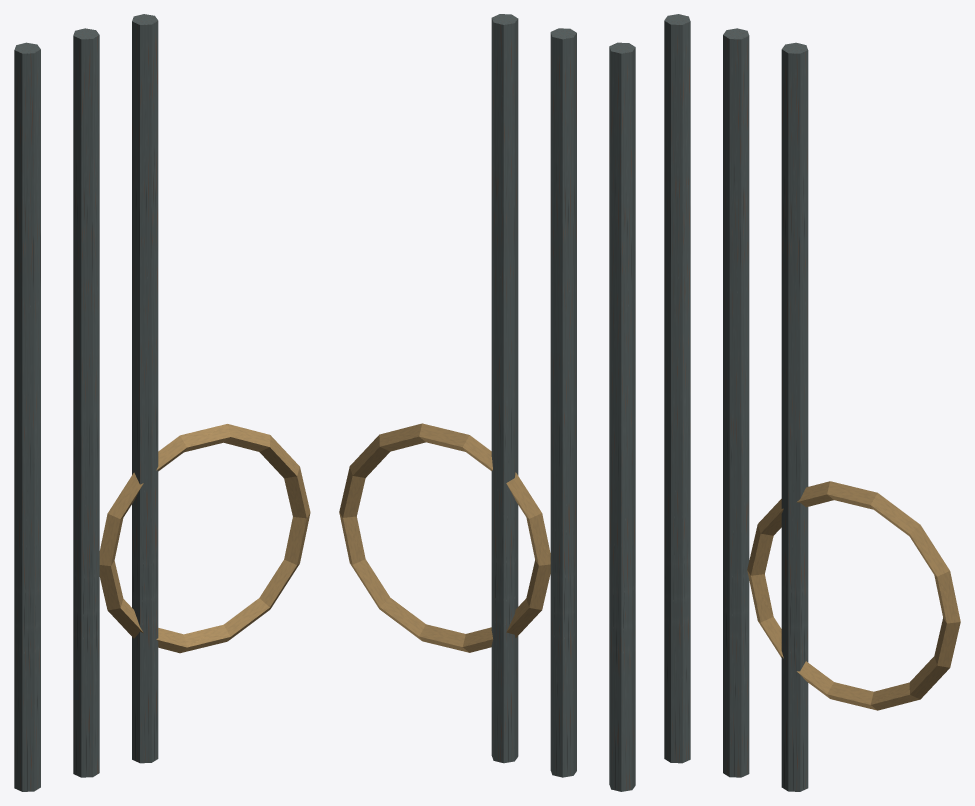
File: ax-com-002_antenna_mast_kit__folded.obj
3 renders of one model, left to right at view 1: azimuth 30°, elevation 25°; view 2: azimuth 150°, elevation 25°; view 3: azimuth 330°, elevation 25°, orthographic.
Visible parts, largest first — view 1: ax-com-002_antenna_mast_kit__folded; view 2: ax-com-002_antenna_mast_kit__folded; view 3: ax-com-002_antenna_mast_kit__folded.
Boxes of the visible parts, left/top/right/bottom form: ax-com-002_antenna_mast_kit__folded: left=14, top=14, right=310, bottom=791; ax-com-002_antenna_mast_kit__folded: left=339, top=14, right=635, bottom=791; ax-com-002_antenna_mast_kit__folded: left=664, top=14, right=960, bottom=791.
Bounding box in the file's own units: 0.3007 × 0.72 × 0.0228.
Materials: 2 (2 with a texture image).
